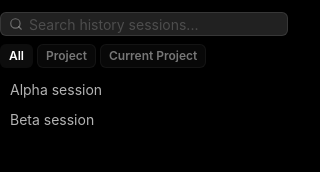
Test: ChatHistoryPanel › 按标题搜索过滤会话列表
Type "beta" into the field with placeholder "Search history sessions..." at (154, 24), box [29,14,279,34]
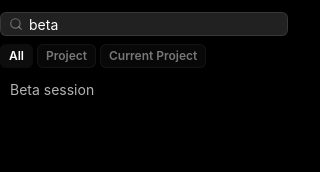
expect the text "Beta session" is shown: met, box [10,81,94,98]
expect the button "Alpha session" is gone: met
